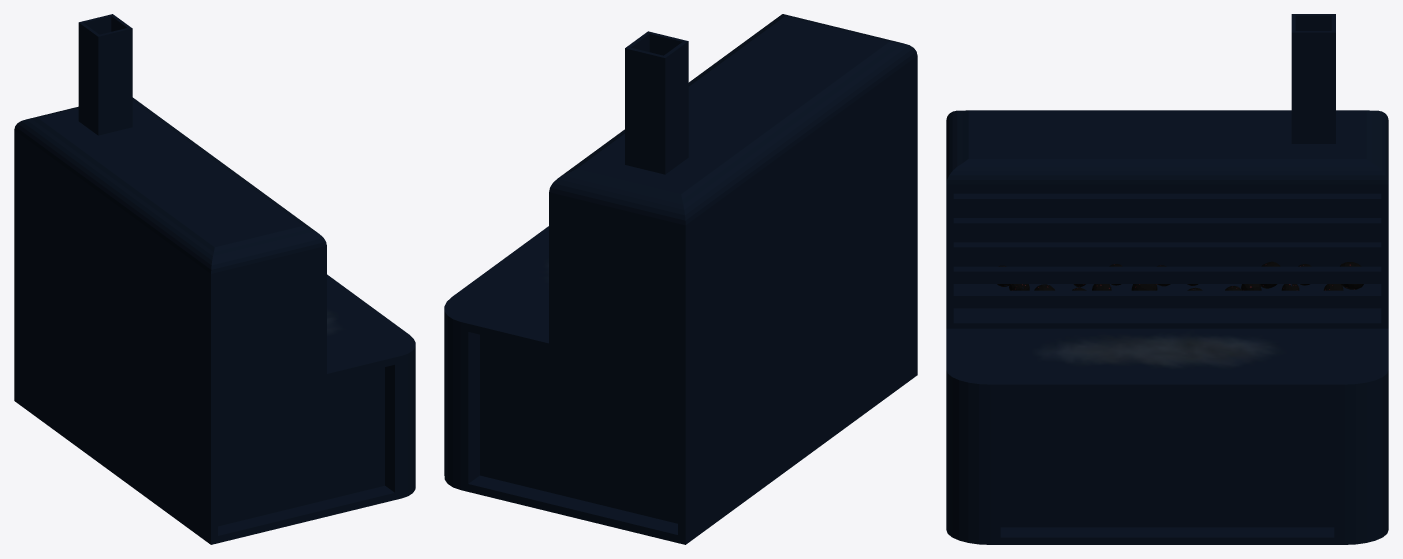
Rendered from Forgind_Sides_Forge.fbx.
3 renders of one model, left to right at view 1: azimuth 30°, elevation 25°; view 2: azimuth 150°, elevation 25°; view 3: azimuth 270°, elevation 25°, orthographic. The views are drawn at different scales.
Visible parts, largest first — view 1: Forge; view 2: Forge; view 3: Forge.
Boxes of the visible parts, bbox=[...] form: Forge: bbox=[14, 14, 415, 544]; Forge: bbox=[444, 14, 917, 544]; Forge: bbox=[946, 14, 1388, 544].
Size of the model in its own units: 320 by 541 by 500.
Materials: 1 (1 with a texture image).
